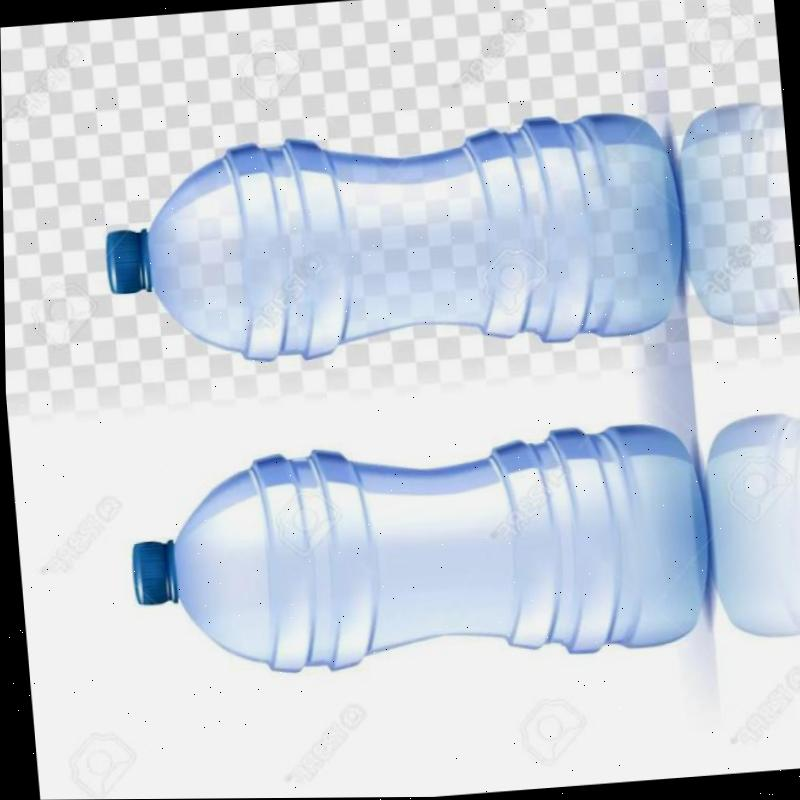botella: (94, 102, 688, 377), (120, 418, 713, 685)
